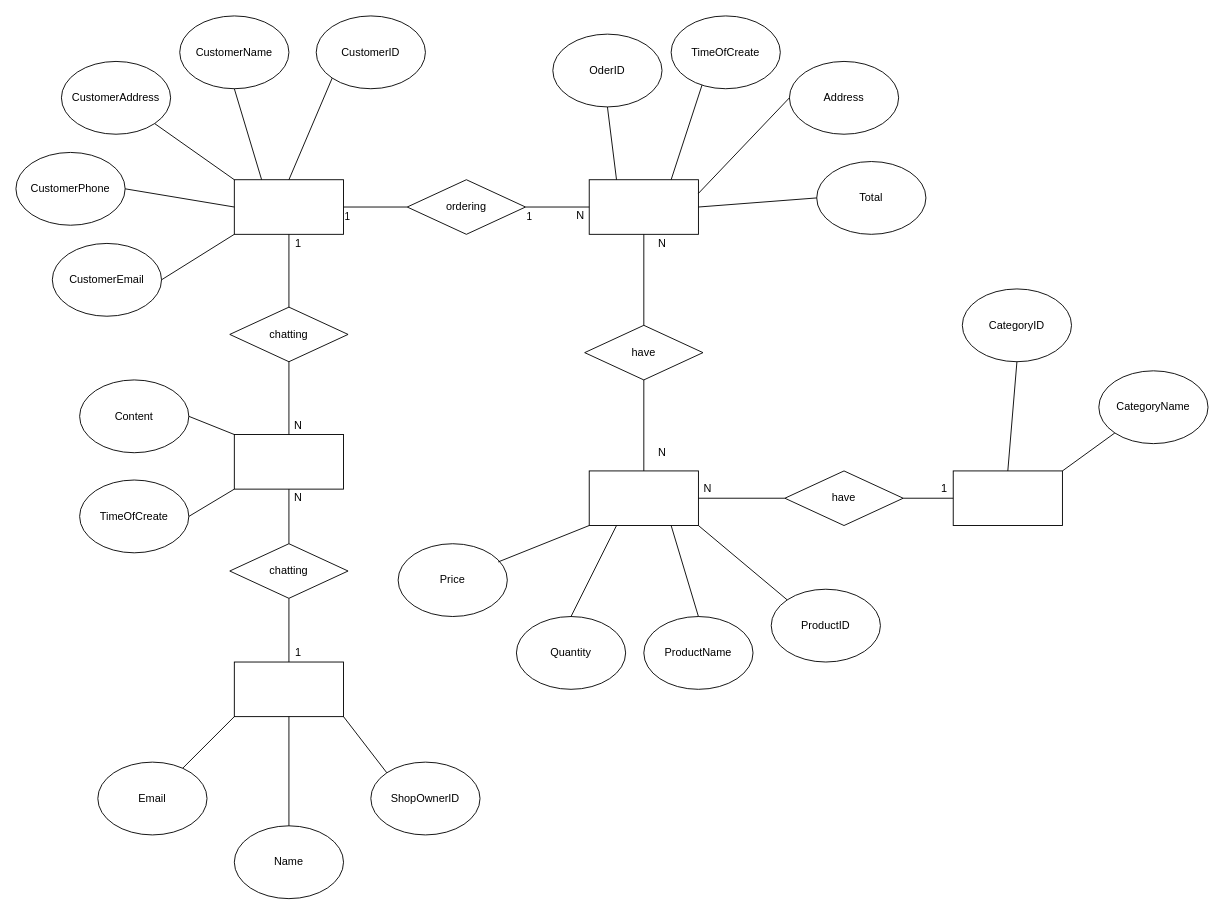
Image size: 1224x915. Some labels were removed from this diagram. The shapes that lost their labels are listed below. From the top down, each one's box as (x1, y1, x2, y2) in pixels, then its label:
(233, 179, 344, 234): Customers
(588, 179, 698, 234): Order
(233, 434, 344, 489): Message
(588, 470, 698, 526): Accessories Product
(952, 470, 1062, 526): Accessories Category
(233, 661, 344, 717): ShopOwner
